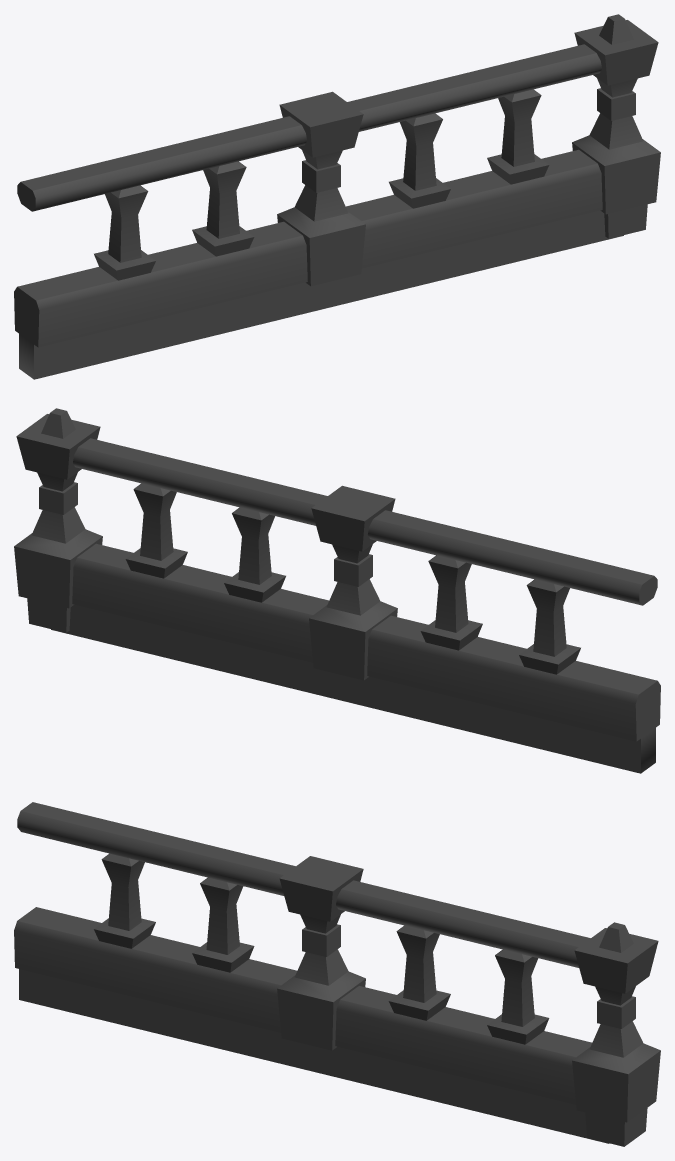
The model's file is Railing_02_1Pillar.fbx.
3 renders of one model, top to bottom at view 1: azimuth 30°, elevation 25°; view 2: azimuth 150°, elevation 25°; view 3: azimuth 330°, elevation 25°, orthographic.
Parts seen in each view (by area): view 1: Pillar_Short_1Pillar; view 2: Pillar_Short_1Pillar; view 3: Pillar_Short_1Pillar.
Part boxes in pixels (box(x1,y1,x2,y2)): Pillar_Short_1Pillar: box(14, 14, 660, 379); Pillar_Short_1Pillar: box(14, 408, 660, 773); Pillar_Short_1Pillar: box(14, 802, 660, 1146).
Size of the model in its own units: 419 by 138 by 38.26.
